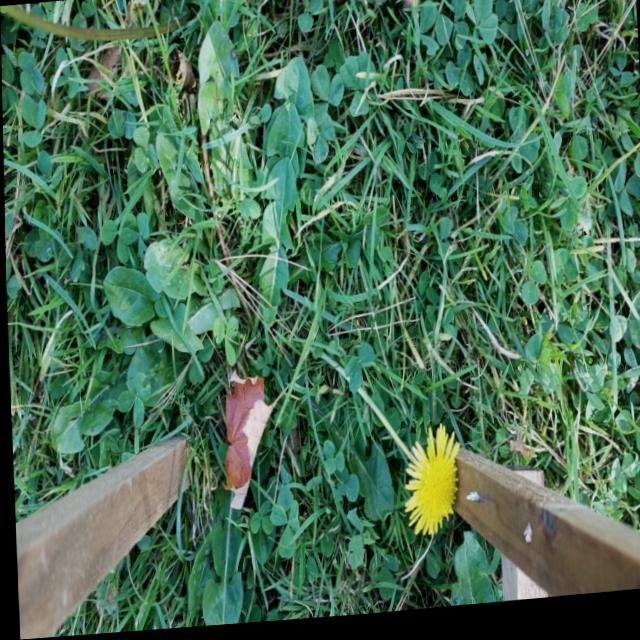base: (305, 341, 332, 375)
